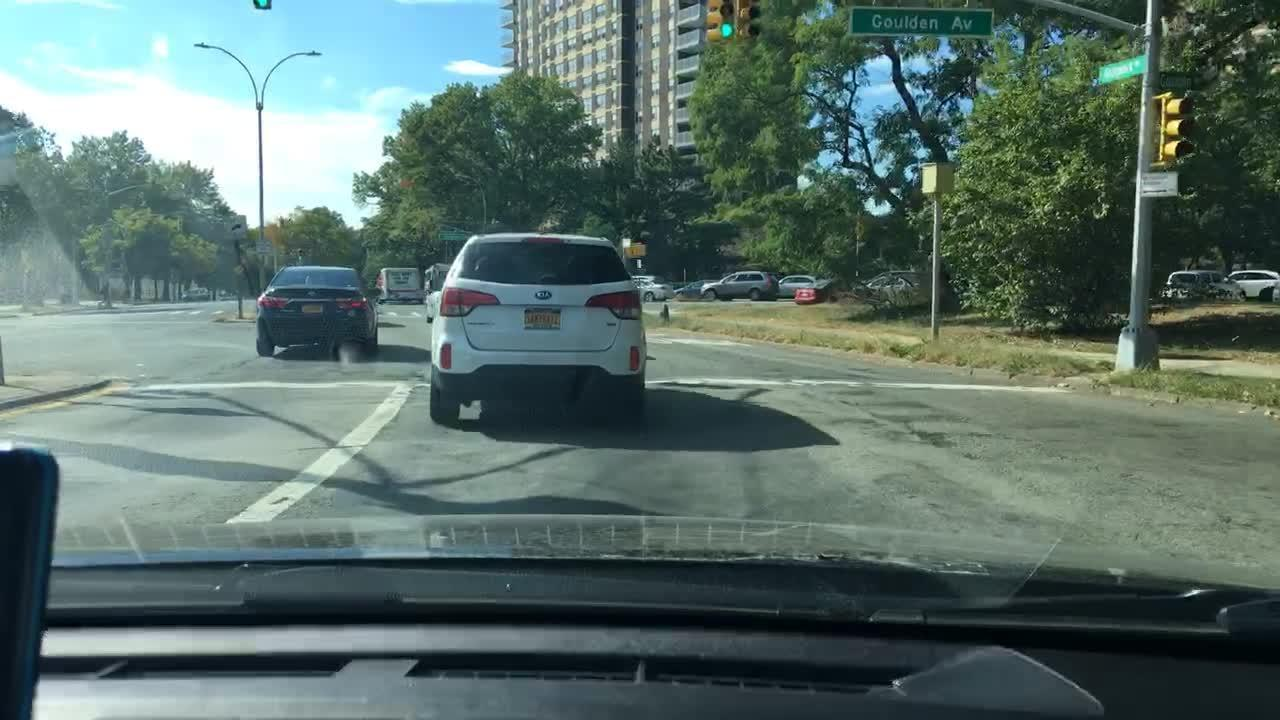kia: (532, 286, 555, 300)
